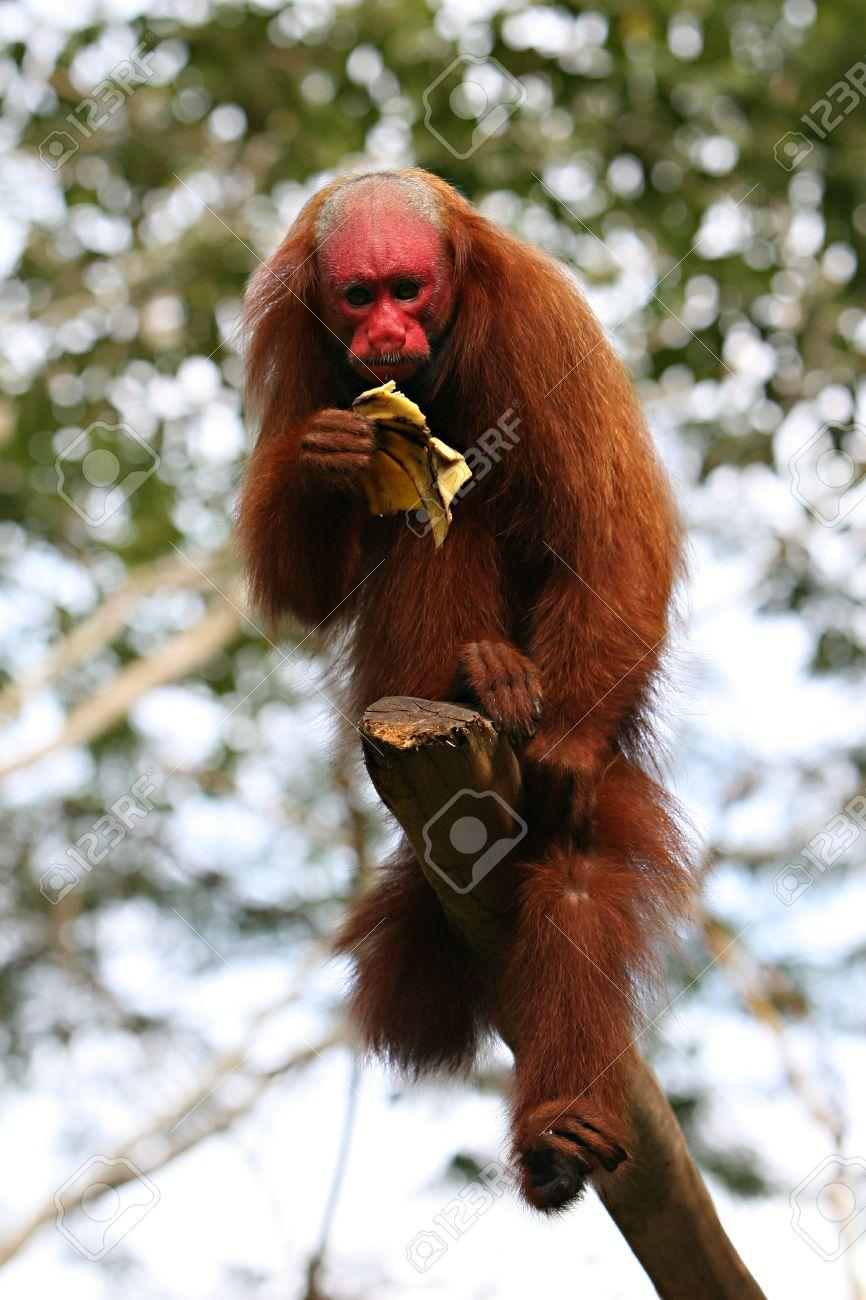monkey: (235, 161, 767, 1300)
